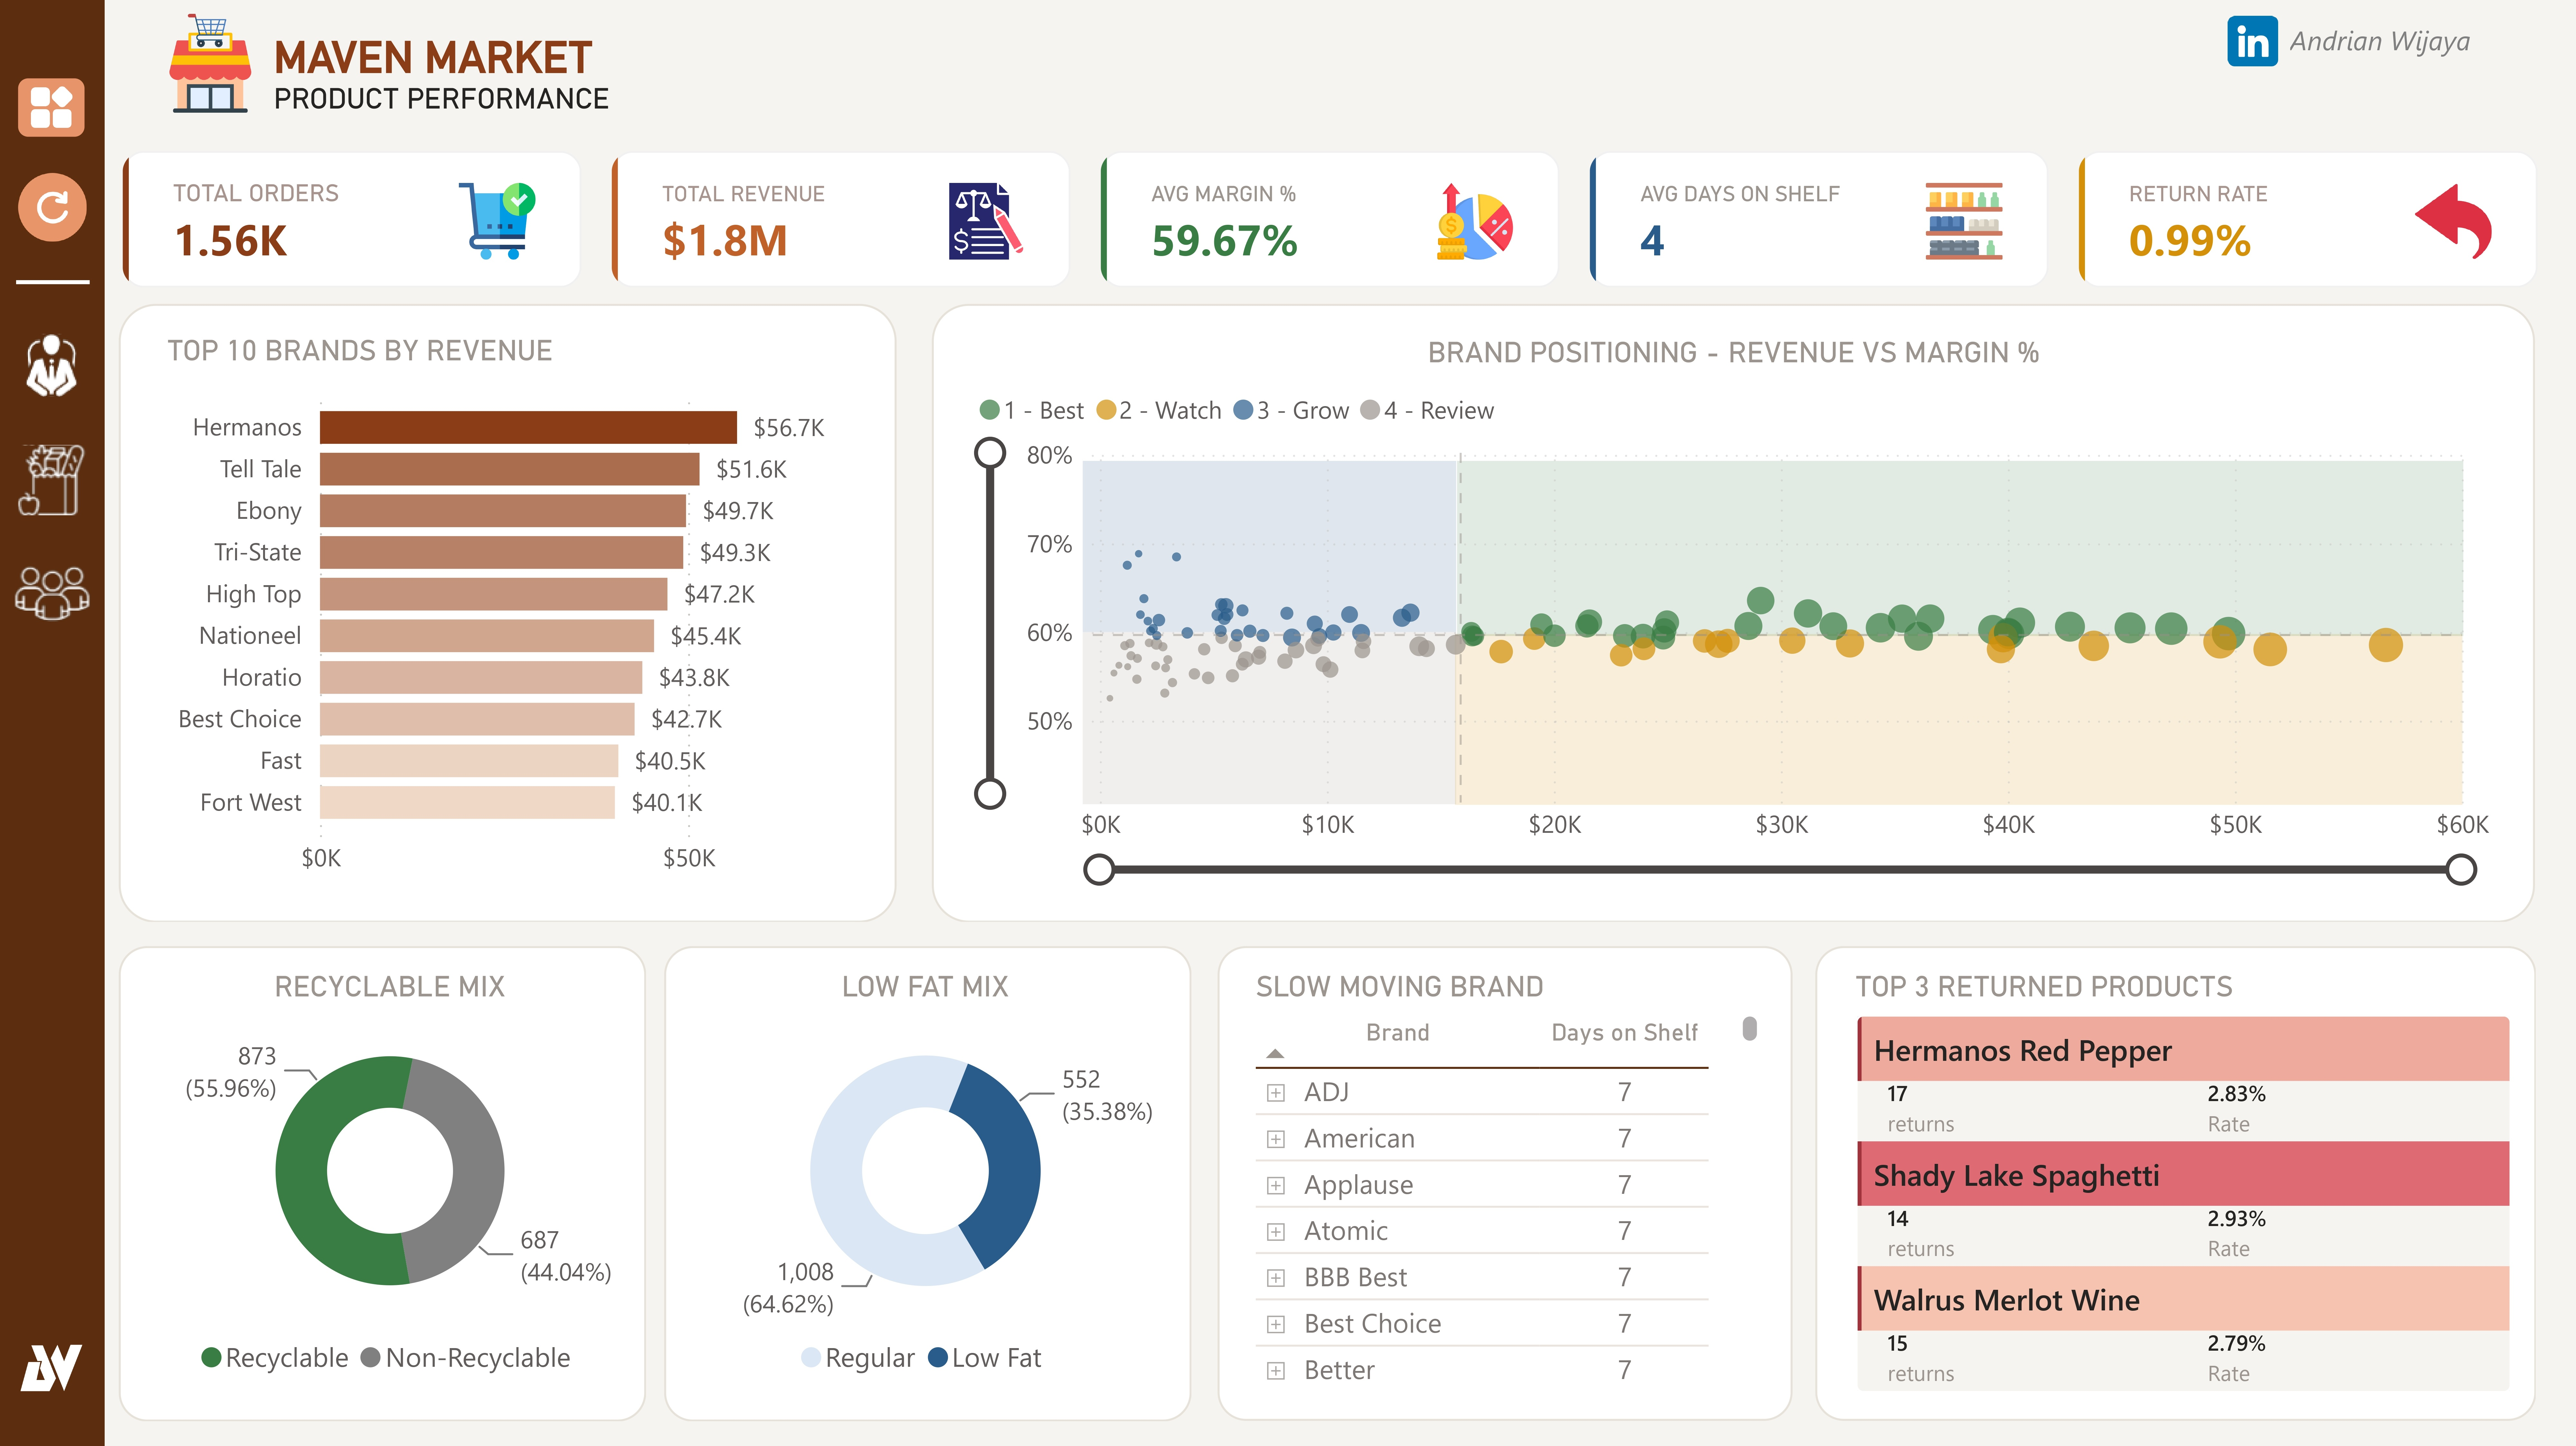

This screenshot's page, from the dashboard's own definition file:
{"tool":"powerbi","page":{"name":"Product Performance","canvas":[1280,720],"ordinal":1},"visuals":[{"type":"shape","box":[0,0,52.3,720],"z":0,"group":"g1"},{"type":"image","box":[69.1,8.1,70.9,48.8],"z":0,"group":"g3"},{"type":"image","box":[1105.3,8.4,28.3,25],"z":0,"group":"g10"},{"type":"shape","box":[58.9,152.4,386.5,307.4],"z":0,"group":"g4"},{"type":"shape","box":[463.2,152.4,796.6,307.4],"z":0,"group":"g5"},{"type":"shape","box":[538.4,315,185.6,85.6],"z":0,"group":"g2"},{"type":"shape","box":[58.7,470.9,262.1,236.2],"z":0,"group":"g6"},{"type":"shape","box":[329.9,470.9,262.1,236.2],"z":0,"group":"g7"},{"type":"shape","box":[604.7,470.9,285.7,235.8],"z":0,"group":"g8"},{"type":"shape","box":[901.8,470.9,358.3,235.8],"z":0,"group":"g9"},{"type":"group","id":"g1","title":"Menu","box":[0,0,52.3,720],"z":1000},{"type":"textbox","box":[1133.6,6.7,121.7,28.3],"z":1000,"group":"g10"},{"type":"textbox","box":[131.4,12.1,305.5,52.6],"z":1000,"group":"g3"},{"type":"clusteredBarChart","title":"TOP 10 BRANDS BY REVENUE","fields":{"Category":["Products Lookup.product_brand"],"Y":["Measure Table.Total Revenue"]},"box":[77.4,167.6,351.2,277.9],"z":1000,"group":"g4"},{"type":"group","id":"g2","title":"Quadrant","box":[538.4,230,685.7,170.6],"z":1000,"group":"g5"},{"type":"shape","box":[538.4,230,185.6,85],"z":1000,"group":"g2"},{"type":"pivotTable","title":"SLOW MOVING BRAND","fields":{"Rows":["Products Lookup.product_brand","Products Lookup.product_name"],"Values":["Measure Table.Avg Days on Shelf"]},"box":[618.3,483,260,210.9],"z":1000,"group":"g8"},{"type":"cardVisual","title":"TOP 3 RETURNED PRODUCTS","fields":{"Data":["Measure Table.Quantity Returned","Measure Table.Return Rate"],"Rows":["Products Lookup.product_name"]},"box":[916.6,483,336,211],"z":1000,"group":"g9"},{"type":"donutChart","title":"RECYCLABLE MIX","fields":{"Category":["Products Lookup.Recyclable (n)"],"Y":["Measure Table.Total Product"]},"box":[77.7,483.1,231.6,211],"z":1000,"group":"g6"},{"type":"donutChart","title":"LOW FAT MIX","fields":{"Category":["Products Lookup.Low Fat"],"Y":["Measure Table.Total Product"]},"box":[340.6,483.1,237.7,211],"z":1000,"group":"g7"},{"type":"group","id":"g3","title":"Tittle","box":[69.1,8.1,367.8,56.5],"z":2000},{"type":"shape","box":[7.7,134.1,36.6,14.5],"z":2000,"group":"g1"},{"type":"scatterChart","title":"BRAND POSITIONING - REVENUE VS MARGIN %","fields":{"Y":["Measure Table.Margin of Profit %"],"Size":["Measure Table.Quantity Sold"],"Category":["Products Lookup.product_brand"],"X":["Measure Table.Total Revenue"],"Series":["Products Lookup (2).Brand Performance Zone"]},"box":[480.9,168.4,761.3,276.2],"z":2000,"group":"g5"},{"type":"shape","box":[723.5,315.7,500.6,84.9],"z":2000,"group":"g2"},{"type":"image","box":[9.1,39.6,32.8,29],"z":2500,"group":"g1"},{"type":"cardVisual","title":"KPI","fields":{"Data":["Measure Table.Total Orders","Measure Table.Total Revenue","Measure Table.Margin of Profit %","Measure Table.Avg Days on Shelf","Measure Table.Return Rate"]},"box":[43.9,58.8,1235.8,102.1],"z":3000},{"type":"shape","box":[724,230,500,87.2],"z":3000,"group":"g2"},{"type":"image","box":[7.6,662.9,35.8,35],"z":3000,"group":"g1"},{"type":"image","box":[8.1,87.2,35.8,34.5],"z":3500,"group":"g1"},{"type":"group","id":"g4","title":"TOP 10 Brand","box":[58.9,152.4,386.5,307.4],"z":4000},{"type":"actionButton","title":"Cust Page","box":[3.4,272.5,46,48.7],"z":4000,"group":"g1"},{"type":"actionButton","title":"Exect Page","box":[6.2,160.8,39.3,43.6],"z":4500,"group":"g1"},{"type":"group","id":"g5","title":"Scatter Plot","box":[463.2,152.4,796.6,307.4],"z":5000},{"type":"actionButton","title":"Product Page","box":[4.7,216.3,43.3,47.3],"z":5000,"group":"g1"},{"type":"group","id":"g6","title":"Recyclable Mix","box":[58.7,470.9,262.1,236.2],"z":6000},{"type":"group","id":"g7","title":"Low Fat Milk","box":[329.9,470.9,262.1,236.2],"z":7000},{"type":"group","id":"g8","title":"Slow Moving Product","box":[604.7,470.9,285.7,235.8],"z":8000},{"type":"group","id":"g9","title":"Top Returned Product","box":[901.8,470.9,358.3,235.8],"z":9000},{"type":"group","id":"g10","title":"Linkedin","box":[1105.3,6.7,150,28.3],"z":10000}]}

Visuals, with their boxes on the page's 1280x720 design canvas (x1, y1, x2, y2). These are canvas units, not pixel positions in the 2576x1446 screenshot, which may show the page scaled, cropped or inside an application window:
shape: [0, 0, 52, 720]
image: [69, 8, 140, 57]
image: [1105, 8, 1134, 33]
shape: [59, 152, 445, 460]
shape: [463, 152, 1260, 460]
shape: [538, 315, 724, 401]
shape: [59, 471, 321, 707]
shape: [330, 471, 592, 707]
shape: [605, 471, 890, 707]
shape: [902, 471, 1260, 707]
"Menu" group: [0, 0, 52, 720]
textbox: [1134, 7, 1255, 35]
textbox: [131, 12, 437, 65]
"TOP 10 BRANDS BY REVENUE" clusteredBarChart: [77, 168, 429, 446]
"Quadrant" group: [538, 230, 1224, 401]
shape: [538, 230, 724, 315]
"SLOW MOVING BRAND" pivotTable: [618, 483, 878, 694]
"TOP 3 RETURNED PRODUCTS" cardVisual: [917, 483, 1253, 694]
"RECYCLABLE MIX" donutChart: [78, 483, 309, 694]
"LOW FAT MIX" donutChart: [341, 483, 578, 694]
"Tittle" group: [69, 8, 437, 65]
shape: [8, 134, 44, 149]
"BRAND POSITIONING - REVENUE VS MARGIN %" scatterChart: [481, 168, 1242, 445]
shape: [724, 316, 1224, 401]
image: [9, 40, 42, 69]
"KPI" cardVisual: [44, 59, 1280, 161]
shape: [724, 230, 1224, 317]
image: [8, 663, 43, 698]
image: [8, 87, 44, 122]
"TOP 10 Brand" group: [59, 152, 445, 460]
"Cust Page" actionButton: [3, 272, 49, 321]
"Exect Page" actionButton: [6, 161, 46, 204]
"Scatter Plot" group: [463, 152, 1260, 460]
"Product Page" actionButton: [5, 216, 48, 264]
"Recyclable Mix" group: [59, 471, 321, 707]
"Low Fat Milk" group: [330, 471, 592, 707]
"Slow Moving Product" group: [605, 471, 890, 707]
"Top Returned Product" group: [902, 471, 1260, 707]
"Linkedin" group: [1105, 7, 1255, 35]
